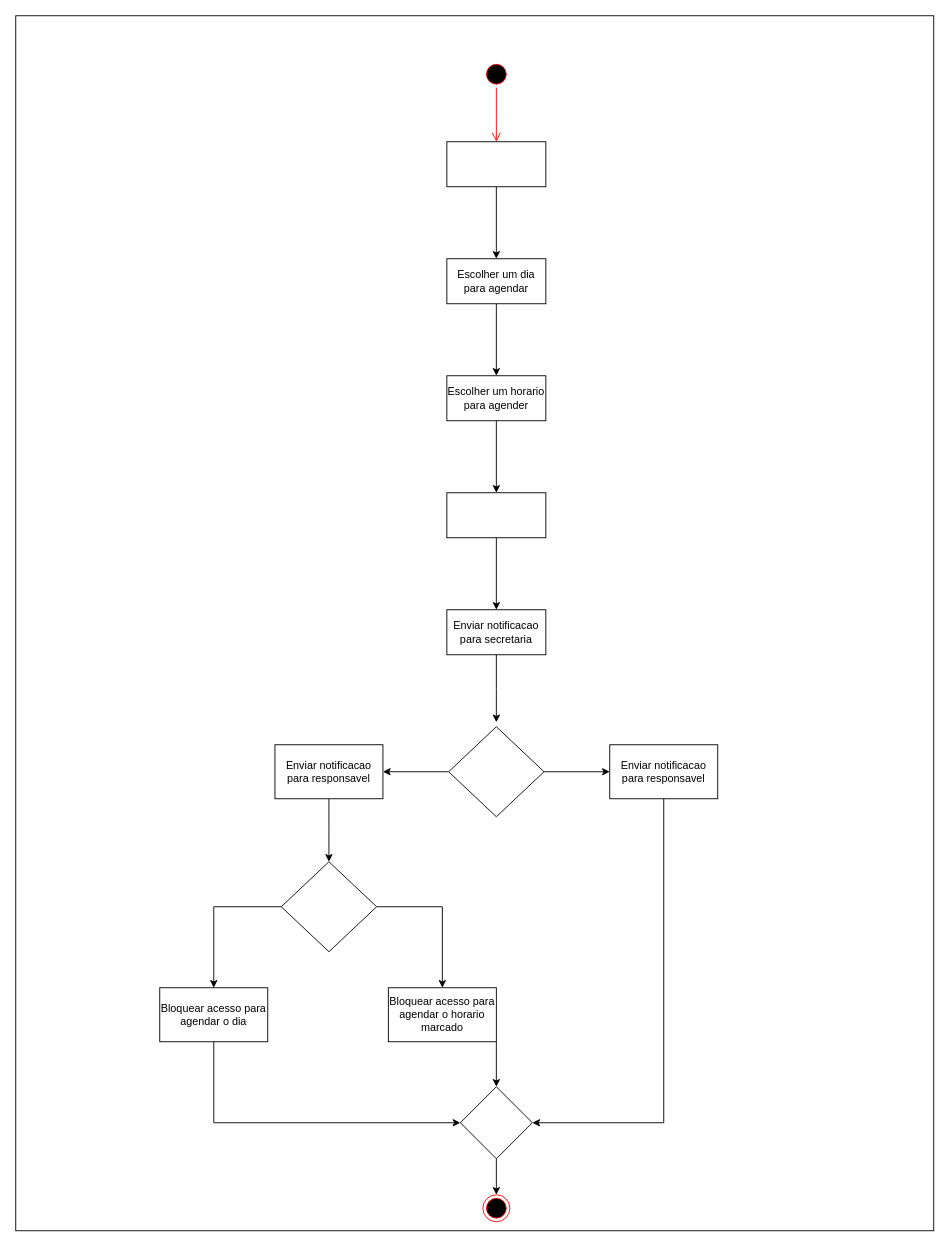
This 950x1247 diagram has some shape labels left out. Each missing label, with the centre of its shape:
"Abrir tela de agendamento" goes at point (496, 164).
"Dia totalmente agendado?" goes at point (328, 906).
"Permitir agendamento?" goes at point (496, 771).
"Preencher todas as informcoes do agendamento" goes at point (496, 515).
